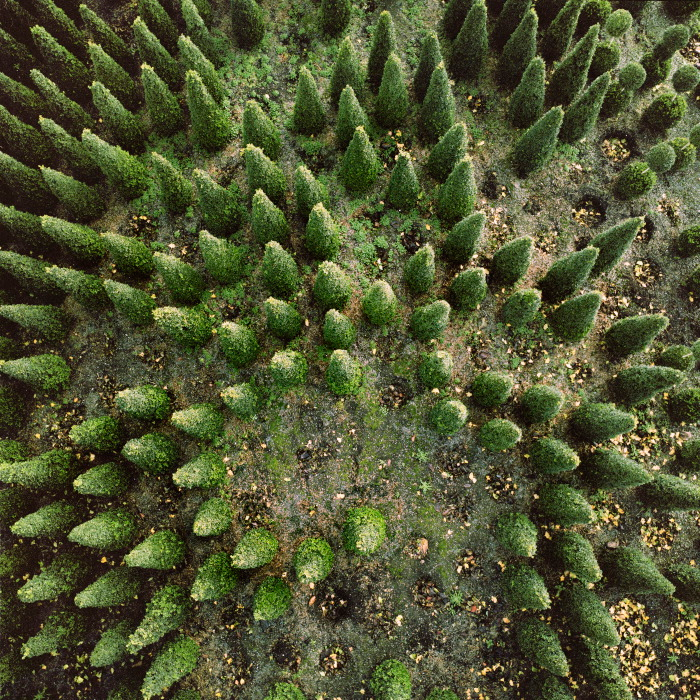forest-tree: (172, 66, 236, 150), (175, 64, 231, 144), (278, 60, 334, 140), (504, 617, 576, 677), (487, 561, 559, 621), (478, 506, 550, 566), (139, 638, 204, 700), (126, 591, 191, 653), (602, 306, 673, 360), (614, 350, 685, 404), (570, 392, 641, 446), (566, 588, 630, 647), (539, 526, 603, 585), (606, 541, 670, 600), (539, 478, 603, 537), (524, 429, 588, 488), (131, 62, 183, 130), (31, 60, 90, 119), (512, 99, 564, 165), (241, 238, 303, 293), (228, 181, 290, 236), (15, 555, 78, 609), (72, 560, 135, 614), (124, 524, 187, 578), (63, 504, 126, 558), (8, 496, 71, 550), (63, 452, 126, 506), (38, 161, 99, 216), (39, 202, 100, 257), (38, 258, 99, 313), (89, 224, 150, 279), (138, 243, 199, 298), (191, 226, 252, 281), (136, 149, 197, 204), (177, 164, 238, 219), (75, 125, 136, 180), (1, 448, 63, 502), (339, 503, 392, 565), (286, 531, 339, 593), (244, 571, 297, 633), (228, 513, 281, 575), (115, 425, 175, 478), (60, 409, 120, 462), (109, 371, 169, 424), (1, 348, 71, 390), (1, 294, 71, 336), (591, 451, 654, 496), (505, 46, 553, 105), (185, 493, 238, 546), (186, 551, 239, 604), (572, 639, 634, 684), (220, 1, 278, 48), (518, 375, 571, 426), (470, 360, 523, 411), (169, 397, 226, 442), (170, 449, 227, 494), (290, 62, 328, 129), (124, 13, 171, 67), (375, 55, 414, 120), (421, 60, 460, 125), (468, 415, 524, 460), (422, 394, 478, 439), (318, 347, 374, 392), (414, 345, 470, 390), (259, 342, 315, 387), (214, 375, 270, 420), (205, 318, 261, 363), (252, 294, 308, 339), (146, 298, 202, 343), (96, 276, 152, 321), (548, 240, 600, 288), (553, 289, 605, 337), (602, 210, 654, 258), (607, 159, 659, 207), (28, 21, 76, 72), (35, 105, 77, 162), (85, 624, 130, 675), (19, 614, 64, 665), (238, 137, 283, 188), (286, 149, 331, 200), (302, 199, 347, 250), (310, 253, 355, 304), (313, 295, 358, 346), (355, 277, 400, 328), (396, 239, 441, 290), (404, 293, 449, 344), (447, 264, 492, 315), (497, 282, 542, 333), (490, 229, 535, 280), (444, 206, 489, 257), (383, 149, 428, 200), (339, 124, 384, 175), (567, 15, 603, 78), (581, 68, 617, 131), (456, 1, 491, 65), (364, 657, 412, 700), (232, 97, 284, 136), (89, 80, 132, 127), (308, 1, 360, 39), (365, 3, 402, 53), (410, 15, 446, 64), (1, 251, 46, 290), (1, 201, 46, 240), (1, 151, 46, 190), (1, 108, 46, 147), (1, 68, 46, 107), (1, 24, 46, 63), (505, 10, 541, 57), (173, 29, 221, 64), (435, 119, 470, 166), (443, 157, 478, 204), (329, 36, 367, 78), (172, 1, 220, 34), (617, 52, 655, 93), (662, 52, 700, 93), (646, 91, 684, 132), (638, 136, 676, 177), (662, 217, 700, 258), (660, 215, 698, 256), (658, 15, 693, 57), (78, 4, 118, 40), (86, 41, 126, 77), (603, 1, 638, 41), (236, 99, 273, 134), (260, 671, 304, 700), (32, 1, 81, 27), (333, 81, 365, 120), (416, 677, 463, 700), (529, 677, 576, 700), (592, 678, 640, 700)
